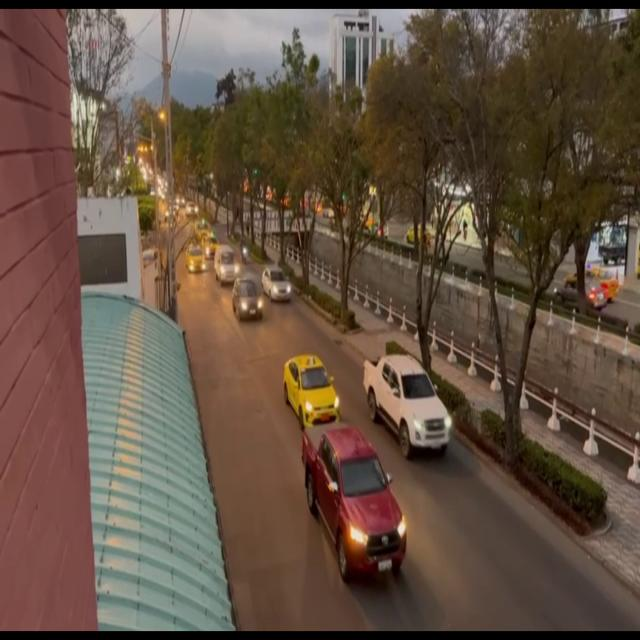CMT: (302, 424, 409, 583), (366, 352, 456, 452)
SED: (284, 356, 341, 426), (233, 276, 264, 320), (264, 267, 292, 302), (185, 245, 205, 274)
